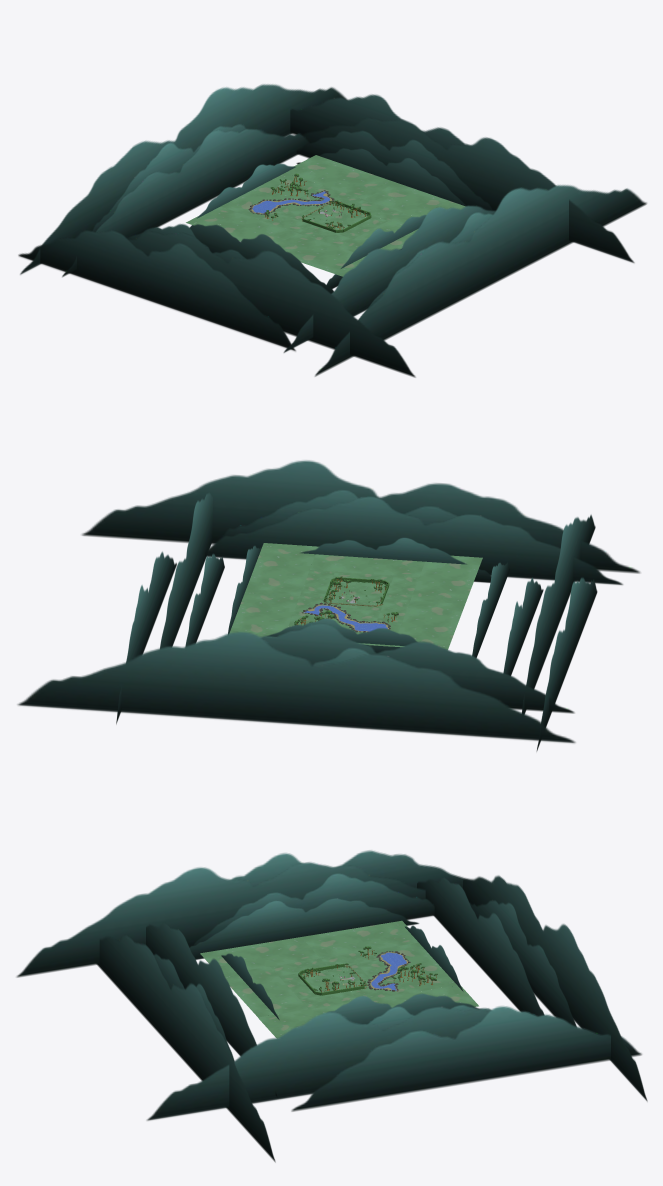
Rendered from cenario-leve.glb.
3 views of the same model, one above another, from view 1: azimuth 30°, elevation 25°; view 2: azimuth 150°, elevation 25°; view 3: azimuth 270°, elevation 25° (orthographic). The views are drawn at different scales.
Parts seen in each view (by area): view 1: montanha, chao_expandido (1), chao_expandido, chao, pPlane3; view 2: montanha, chao_expandido (1), chao_expandido, chao, pPlane3; view 3: montanha, chao_expandido (1), chao_expandido, chao, pPlane3.
Part boxes in pixels (x1=…): montanha: x1=18, y1=84, x2=646, y2=377; chao_expandido (1): x1=186, y1=155, x2=465, y2=276; chao_expandido: x1=258, y1=185, x2=402, y2=246; chao: x1=292, y1=202, x2=366, y2=232; pPlane3: x1=248, y1=190, x2=334, y2=214; montanha: x1=17, y1=460, x2=640, y2=751; chao_expandido (1): x1=229, y1=543, x2=482, y2=649; chao_expandido: x1=292, y1=570, x2=418, y2=623; chao: x1=322, y1=583, x2=389, y2=611; pPlane3: x1=302, y1=602, x2=390, y2=632; montanha: x1=16, y1=850, x2=647, y2=1162; chao_expandido (1): x1=200, y1=920, x2=478, y2=1038; chao_expandido: x1=270, y1=950, x2=409, y2=1009; chao: x1=303, y1=964, x2=371, y2=995; pPlane3: x1=367, y1=951, x2=410, y2=991.
Size of the model in its own units: 623 by 102 by 591.
23 materials, 22 textured.
